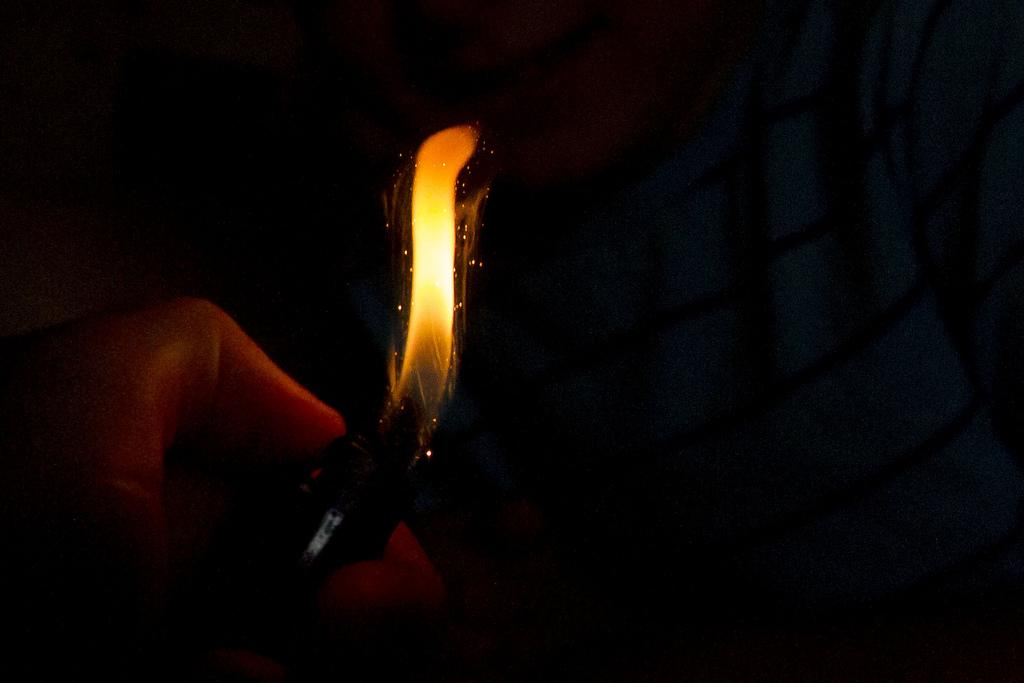fire: (397, 180, 471, 419)
